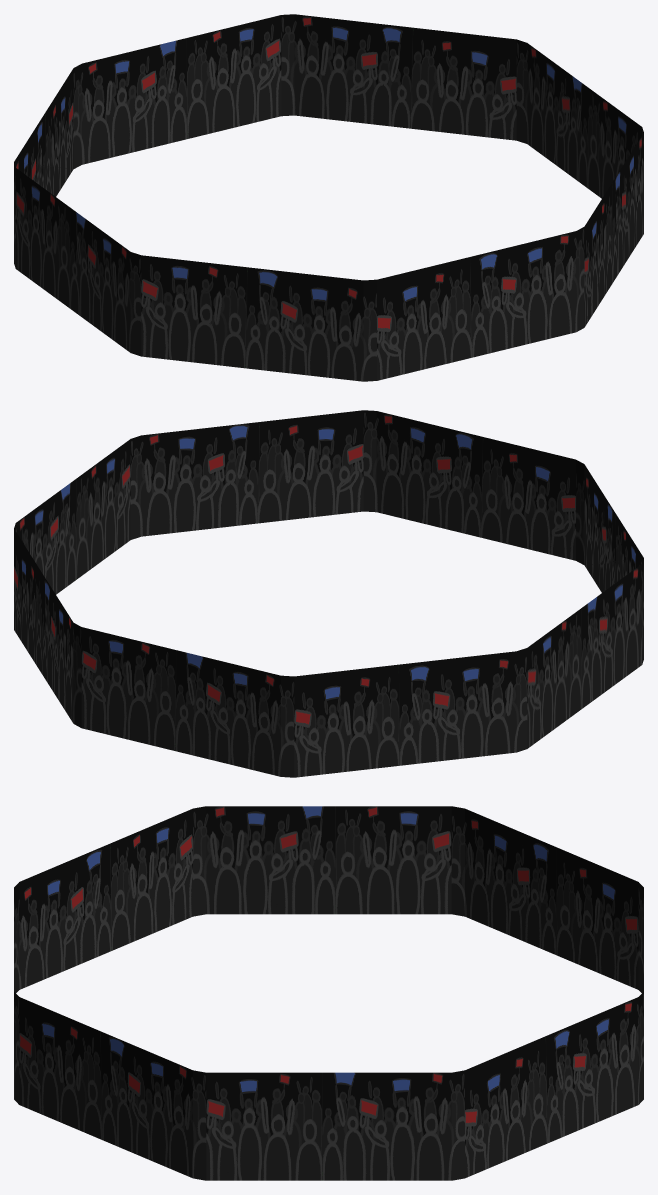
File: Public.fbx
3 views of the same model, one above another, from view 1: azimuth 30°, elevation 25°; view 2: azimuth 150°, elevation 25°; view 3: azimuth 270°, elevation 25° (orthographic). The views are drawn at different scales.
Parts seen in each view (by area): view 1: Ring_Plane_012; view 2: Ring_Plane_012; view 3: Ring_Plane_012.
Boxes of the visible parts, x1,y1,x2,y2 form: Ring_Plane_012: (14, 14, 643, 381); Ring_Plane_012: (14, 410, 643, 777); Ring_Plane_012: (14, 806, 643, 1180).
Bounding box in the file's own units: 2336 × 442 × 2335.
